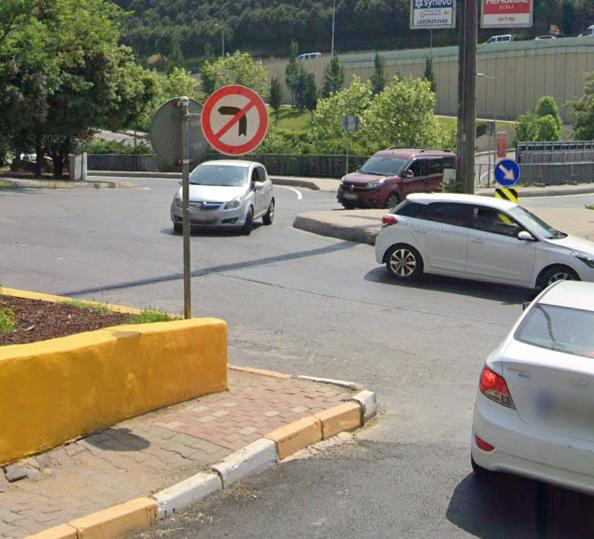leftturnsareforbidden: (199, 89, 267, 155)
